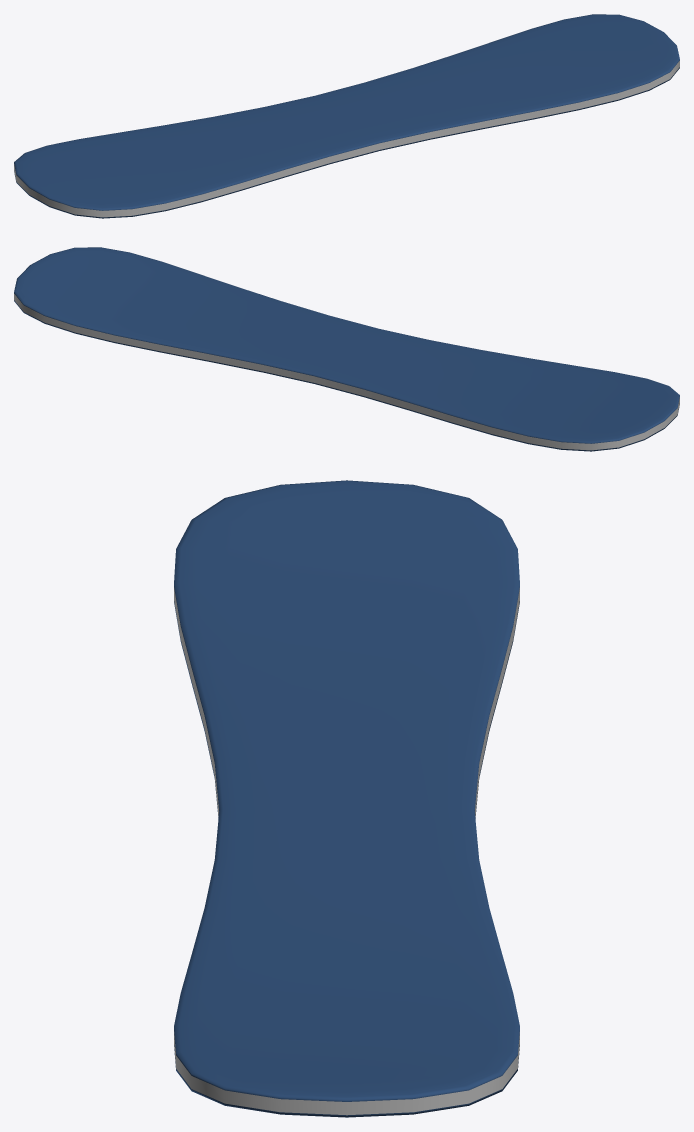
Rendered from snowboard.fbx.
3 renders of one model, top to bottom at view 1: azimuth 30°, elevation 25°; view 2: azimuth 150°, elevation 25°; view 3: azimuth 270°, elevation 25°, orthographic. The views are drawn at different scales.
Visible parts, largest first — view 1: pCube147; view 2: pCube147; view 3: pCube147.
Part boxes in pixels (box(x1,y1,x2,y2)): pCube147: box(14, 14, 679, 218); pCube147: box(14, 247, 679, 451); pCube147: box(174, 480, 519, 1117).
Size of the model in its own units: 1.65 by 0.0513 by 0.3898.
